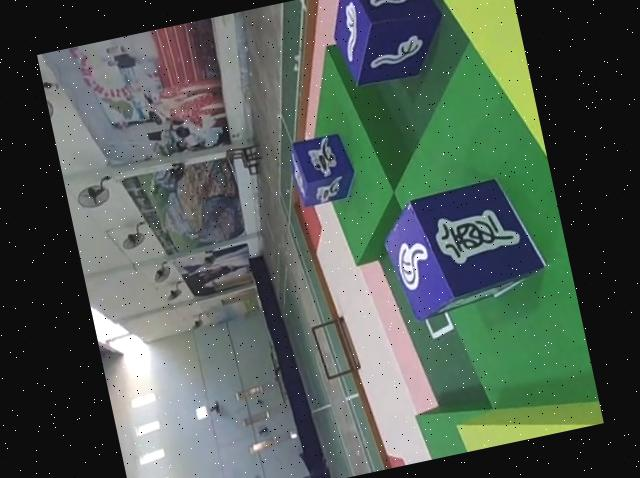R1 Blue: (285, 131, 361, 211)
R2 Fake Blue: (378, 171, 556, 324)
R2 Real Blue: (326, 0, 455, 91)
